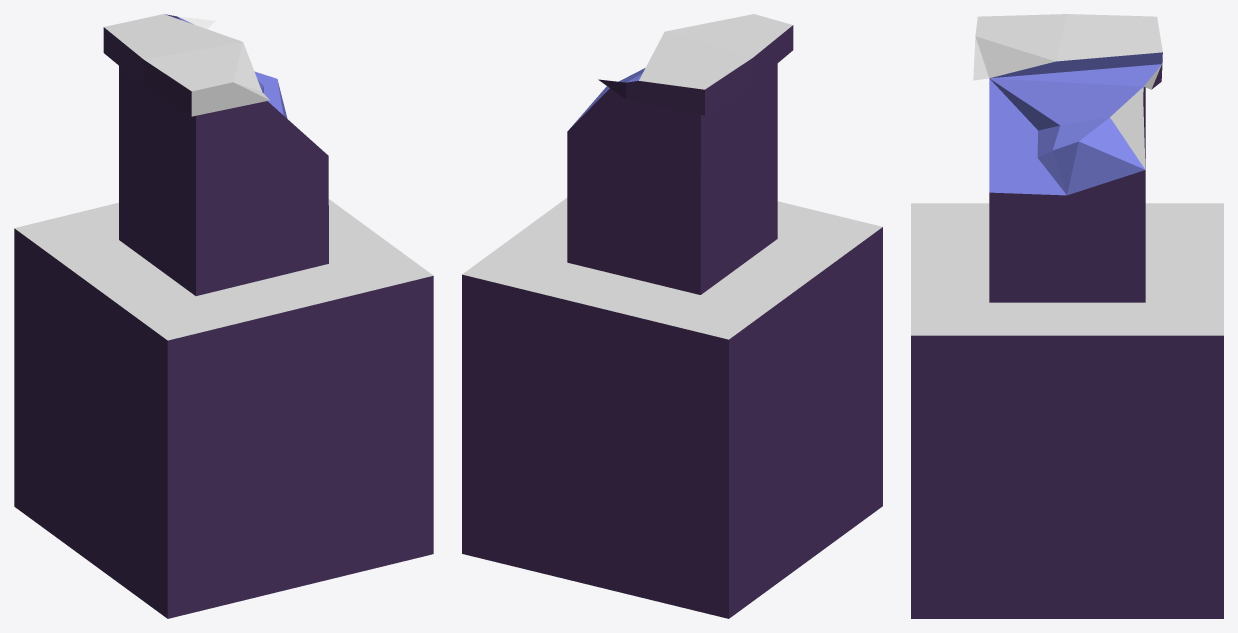
File: Pole2.fbx
3 views of the same model, side by side, from view 1: azimuth 30°, elevation 25°; view 2: azimuth 150°, elevation 25°; view 3: azimuth 270°, elevation 25° (orthographic).
Parts seen in each view (by area): view 1: Pole2; view 2: Pole2; view 3: Pole2.
Part boxes in pixels (x1,y1,x2,y2): Pole2: (14,14,433,618); Pole2: (462,14,882,618); Pole2: (911,14,1223,618).
Bounding box in the file's own units: 200 × 352 × 200.
